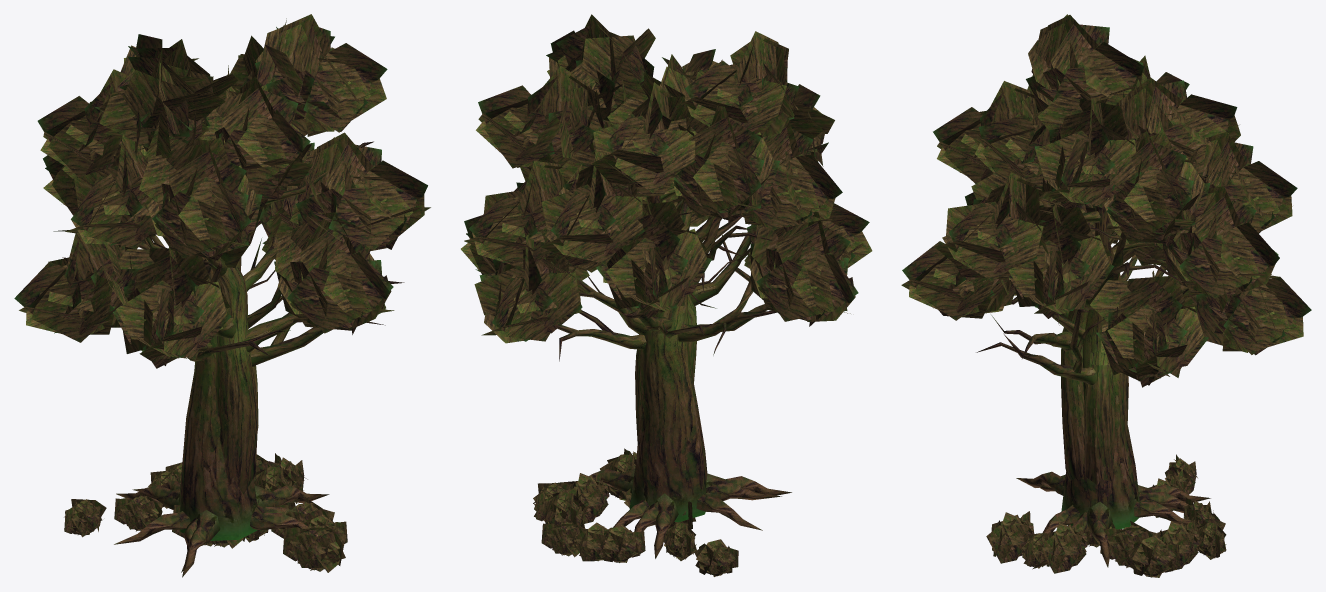
The model's file is Trees.fbx.
3 views of the same model, side by side, from view 1: azimuth 30°, elevation 25°; view 2: azimuth 150°, elevation 25°; view 3: azimuth 270°, elevation 25° (orthographic). The views are drawn at different scales.
Visible parts, largest first — view 1: sd03b_tree03_leaf001, sd03b_tree03_leaf014, sd03b_tree03_leaf008, sd03b_tree01_trunk001, sd03b_tree03_trunk001, sd03b_tree02_trunk001, sd03b_tree03_kusa002, sd03b_tree03_kusa001, sd03b_tree01_kusa001; view 2: sd03b_tree03_leaf001, sd03b_tree03_leaf008, sd03b_tree03_leaf014, sd03b_tree01_trunk001, sd03b_tree01_kusa001, sd03b_tree02_trunk001, sd03b_tree03_trunk001, sd03b_tree03_kusa001, sd03b_tree03_kusa002; view 3: sd03b_tree03_leaf001, sd03b_tree03_leaf008, sd03b_tree03_leaf014, sd03b_tree01_trunk001, sd03b_tree02_trunk001, sd03b_tree01_kusa001, sd03b_tree03_trunk001, sd03b_tree03_kusa002, sd03b_tree03_kusa001.
Boxes of the visible parts, left/top/right/bottom form: sd03b_tree03_leaf001: left=14, top=14, right=430, bottom=342; sd03b_tree03_leaf014: left=43, top=65, right=314, bottom=368; sd03b_tree03_leaf008: left=37, top=25, right=394, bottom=334; sd03b_tree01_trunk001: left=116, top=190, right=329, bottom=577; sd03b_tree03_trunk001: left=62, top=141, right=404, bottom=572; sd03b_tree02_trunk001: left=53, top=230, right=385, bottom=544; sd03b_tree03_kusa002: left=172, top=497, right=347, bottom=572; sd03b_tree03_kusa001: left=64, top=492, right=226, bottom=545; sd03b_tree01_kusa001: left=148, top=453, right=307, bottom=548; sd03b_tree03_leaf001: left=461, top=14, right=858, bottom=326; sd03b_tree03_leaf008: left=474, top=66, right=834, bottom=343; sd03b_tree03_leaf014: left=464, top=49, right=872, bottom=318; sd03b_tree01_trunk001: left=558, top=198, right=791, bottom=558; sd03b_tree01_kusa001: left=533, top=473, right=645, bottom=562; sd03b_tree02_trunk001: left=557, top=215, right=772, bottom=530; sd03b_tree03_trunk001: left=567, top=59, right=781, bottom=554; sd03b_tree03_kusa001: left=664, top=523, right=738, bottom=576; sd03b_tree03_kusa002: left=600, top=448, right=695, bottom=529; sd03b_tree03_leaf001: left=935, top=14, right=1297, bottom=387; sd03b_tree03_leaf008: left=901, top=55, right=1311, bottom=355; sd03b_tree03_leaf014: left=965, top=114, right=1279, bottom=318; sd03b_tree01_trunk001: left=1016, top=202, right=1210, bottom=567; sd03b_tree02_trunk001: left=976, top=200, right=1250, bottom=533; sd03b_tree01_kusa001: left=1067, top=497, right=1226, bottom=577; sd03b_tree03_trunk001: left=977, top=133, right=1223, bottom=569; sd03b_tree03_kusa002: left=986, top=511, right=1087, bottom=573; sd03b_tree03_kusa001: left=1118, top=454, right=1197, bottom=529.
Size of the model in its own units: 8.82 by 11.51 by 8.73.
